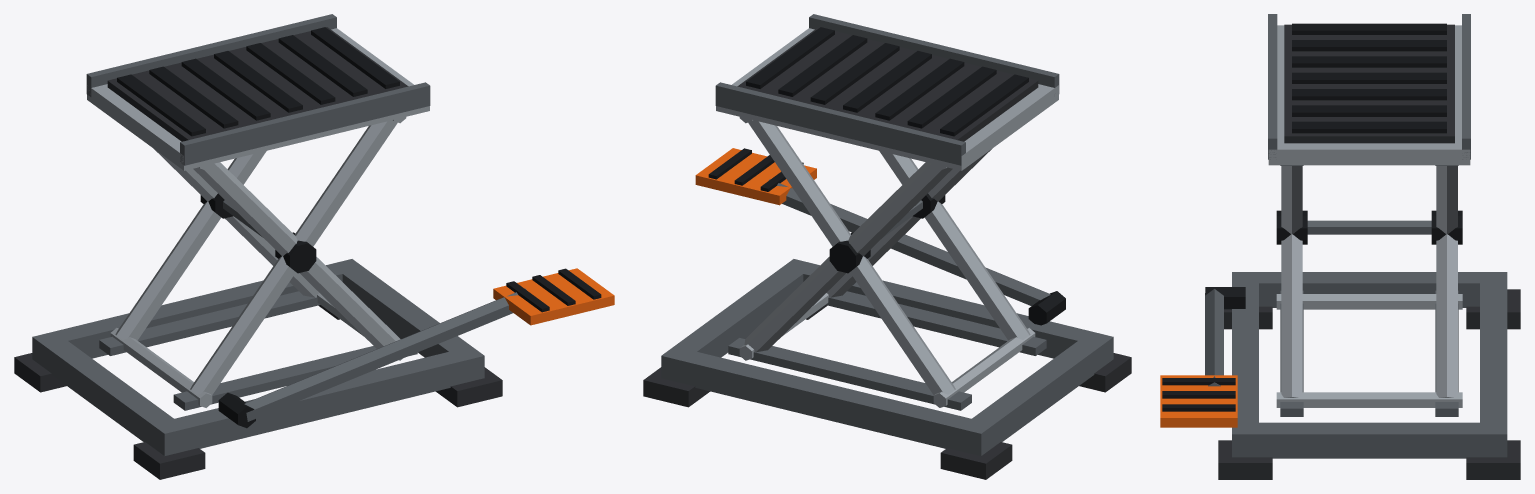
Rendered from paddock_stand.glb.
The picture shows the model from 3 angles, left to right: view 1: azimuth 30°, elevation 25°; view 2: azimuth 150°, elevation 25°; view 3: azimuth 270°, elevation 25°; orthographic projection. The views are drawn at different scales.
Parts seen in each view (by area): view 1: Stand_Lift; view 2: Stand_Lift; view 3: Stand_Lift.
Part boxes in pixels (x1,y1,x2,y2): Stand_Lift: (14,14,614,479); Stand_Lift: (643,14,1131,479); Stand_Lift: (1160,14,1520,479).
Size of the model in its own units: 0.66 by 0.451 by 0.465.
